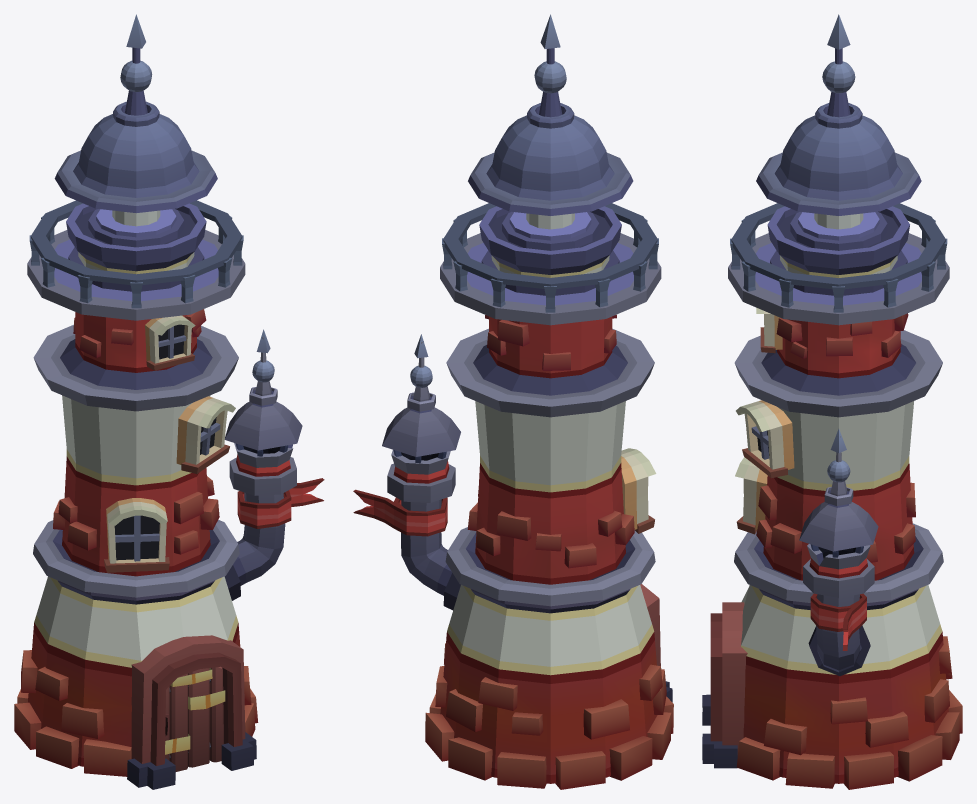
The model's file is LighthouseMainVersion.fbx.
3 views of the same model, side by side, from view 1: azimuth 30°, elevation 25°; view 2: azimuth 150°, elevation 25°; view 3: azimuth 270°, elevation 25° (orthographic).
Visible parts, largest first — view 1: Lighthouse(VC); view 2: Lighthouse(VC); view 3: Lighthouse(VC).
Part boxes in pixels (left/top/right/bottom): Lighthouse(VC): left=14, top=14, right=324, bottom=789; Lighthouse(VC): left=353, top=14, right=673, bottom=789; Lighthouse(VC): left=702, top=14, right=962, bottom=789.
Bounding box in the file's own units: 7.81 × 18.01 × 5.85.
